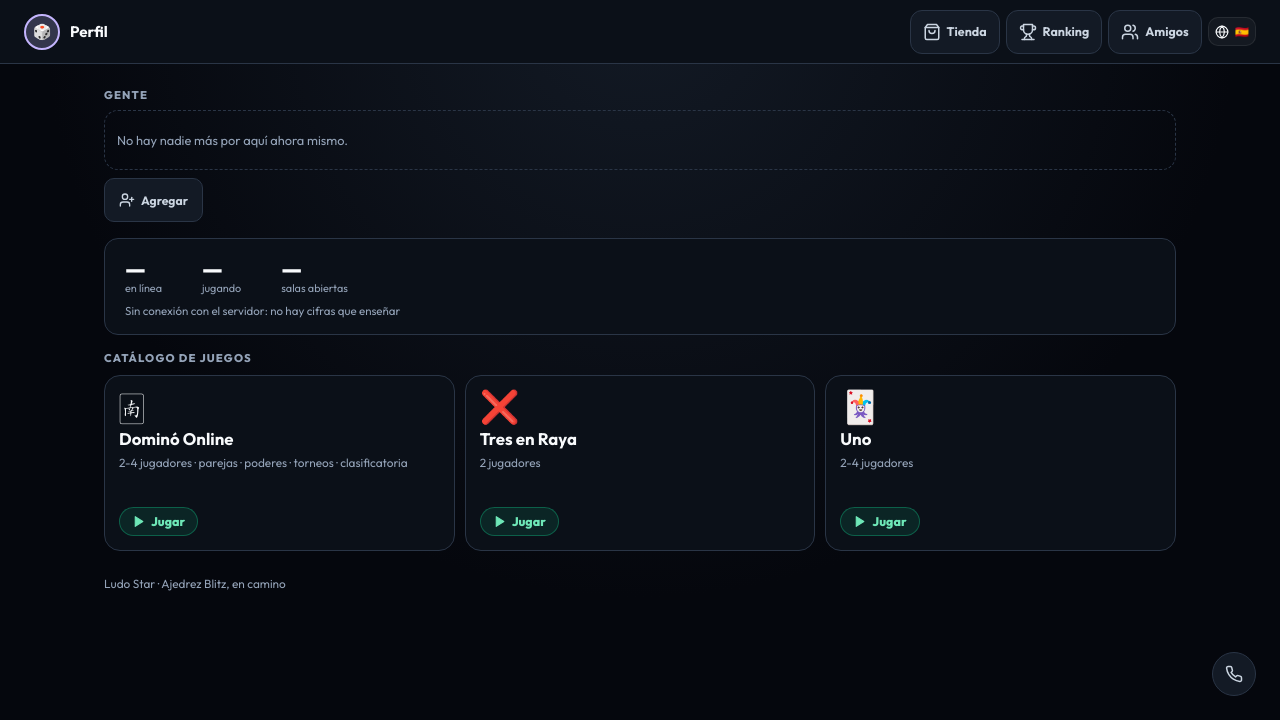
Test: Flujo hub → juego › el lobby del dominó sí muestra su nombre
This screenshot has width=1280, height=720.
Click the text "Dominó Online" at (176, 439), box x1=119 y1=428 x2=234 y2=449
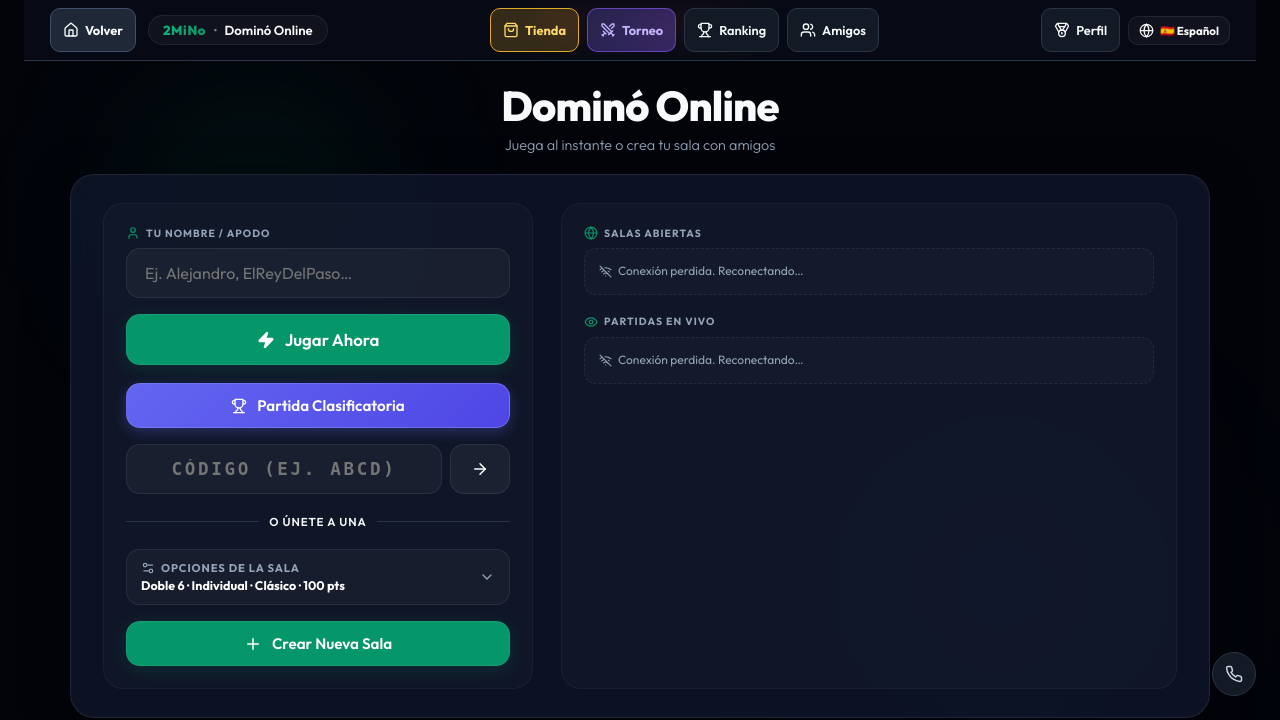
Check: the heading "Dominó Online" is shown, box x1=501 y1=79 x2=779 y2=132
